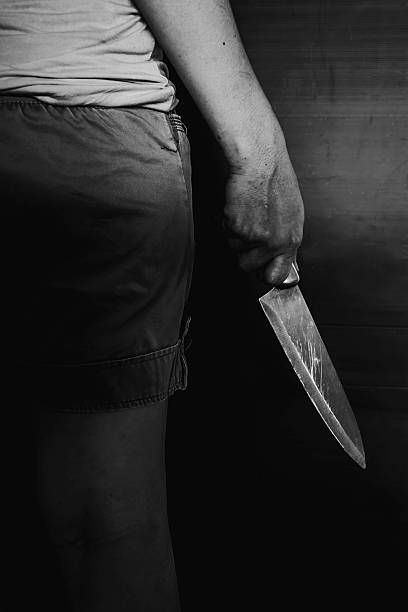knife: (254, 279, 369, 471)
